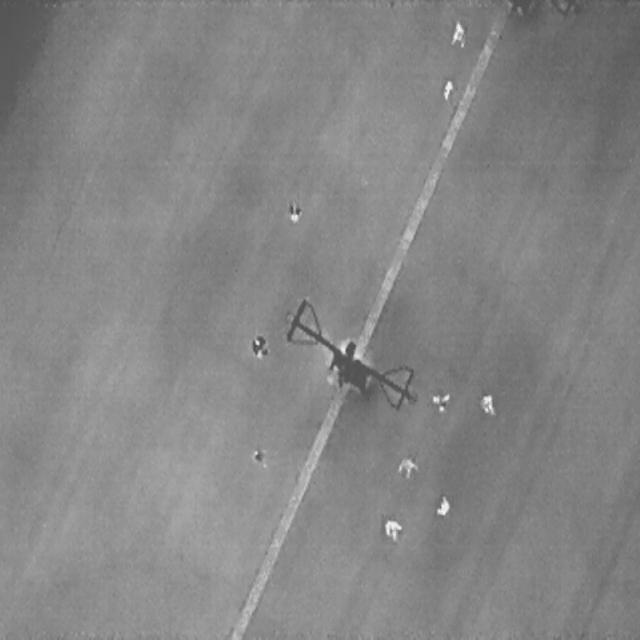Person: (382, 515, 402, 543), (394, 456, 417, 479), (450, 19, 466, 49), (438, 74, 455, 101), (250, 333, 268, 358), (478, 392, 495, 417), (431, 390, 449, 412), (434, 492, 450, 516), (288, 201, 302, 224), (252, 447, 266, 465)
